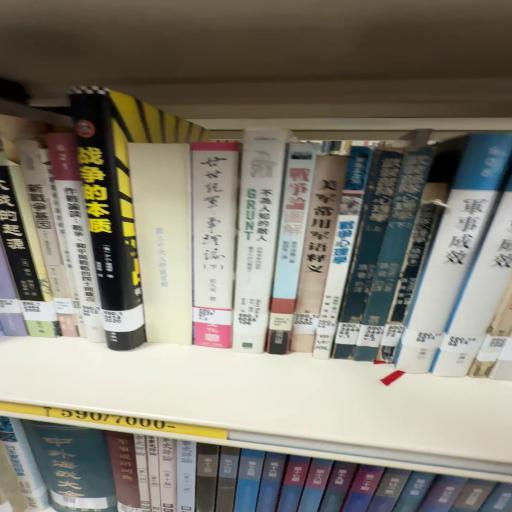backward: (129, 144, 193, 346)
book: (77, 97, 150, 354), (126, 143, 192, 348), (235, 132, 294, 357), (194, 142, 242, 351)
